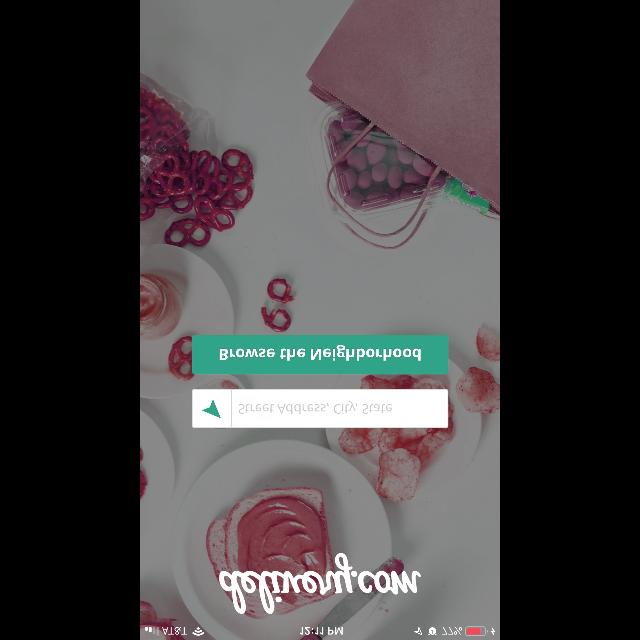backgroundimage: (140, 1, 500, 640)
icon: (202, 398, 222, 418)
input: (192, 388, 448, 428)
text: (219, 552, 421, 614), (238, 402, 392, 414)
textbutton: (192, 334, 448, 374)
uppertaskbar: (140, 626, 500, 640)
